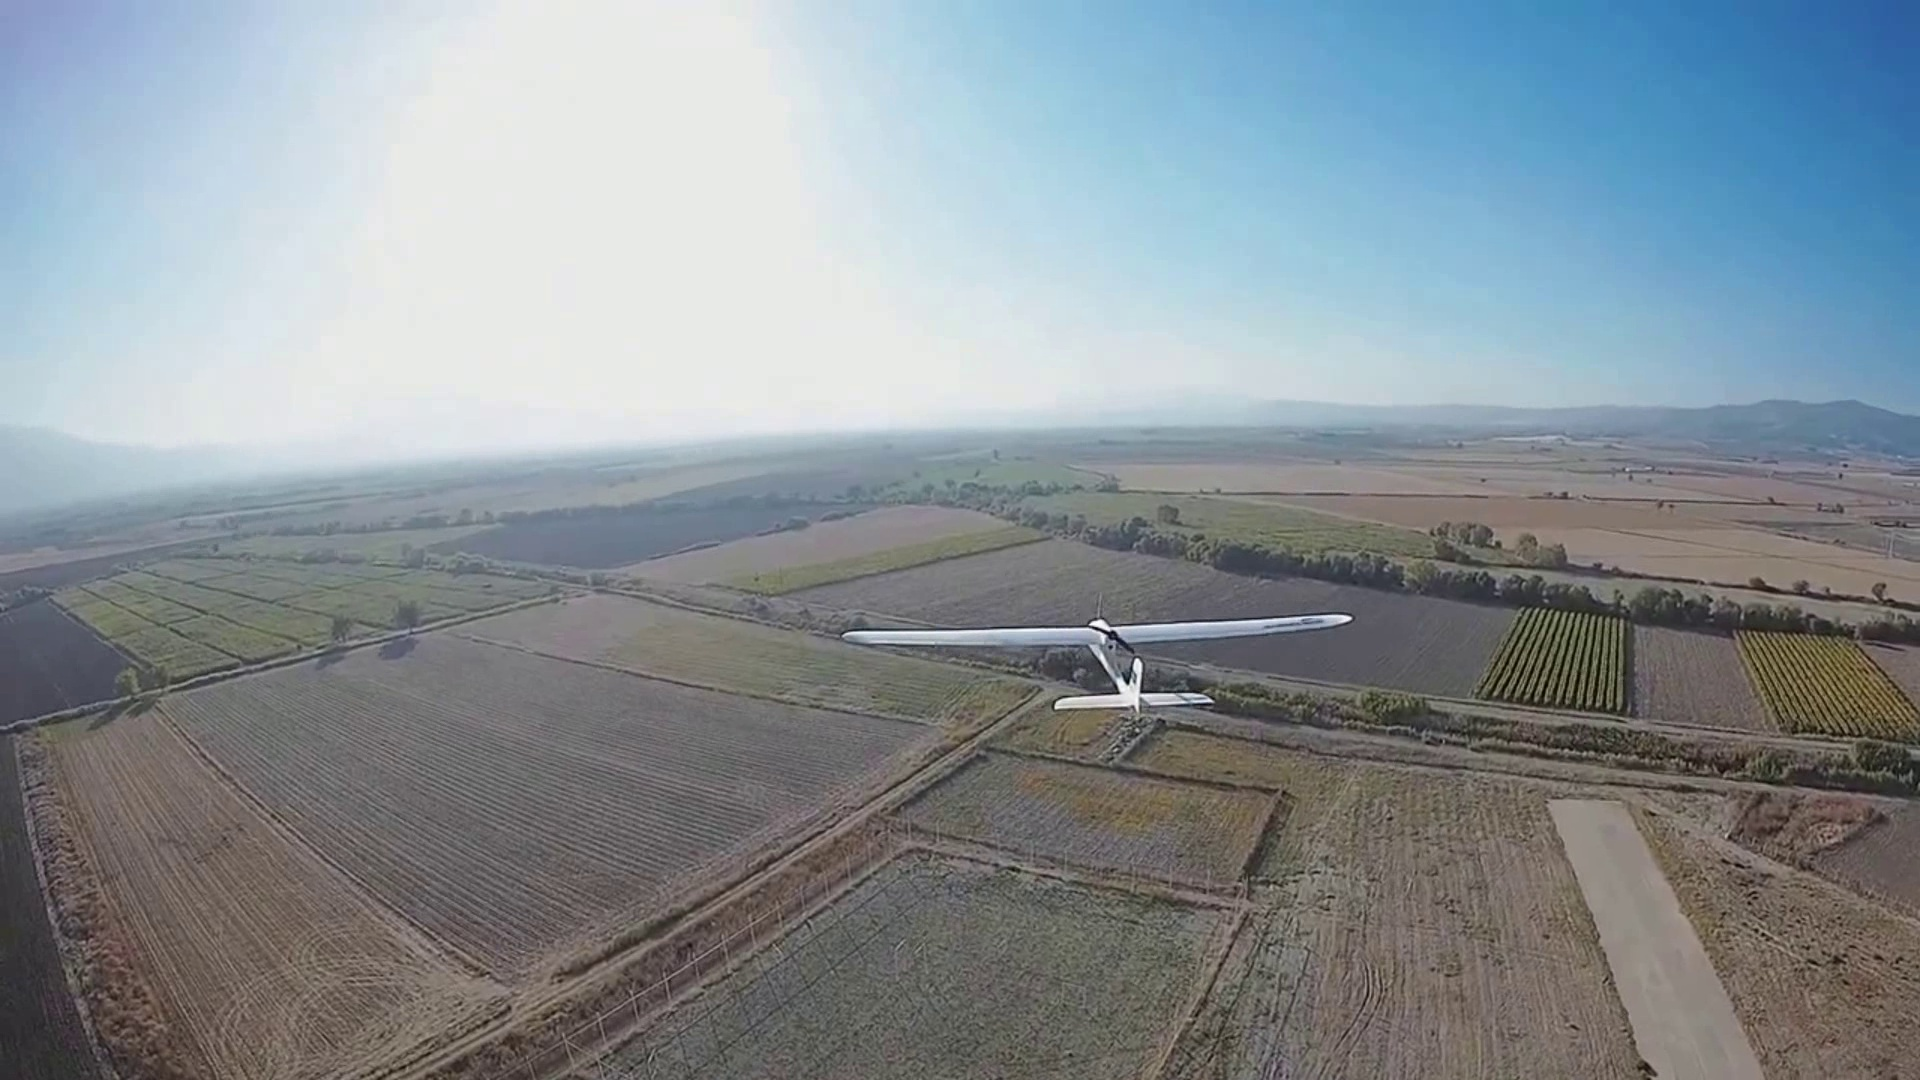airplane: (840, 607, 1354, 709)
